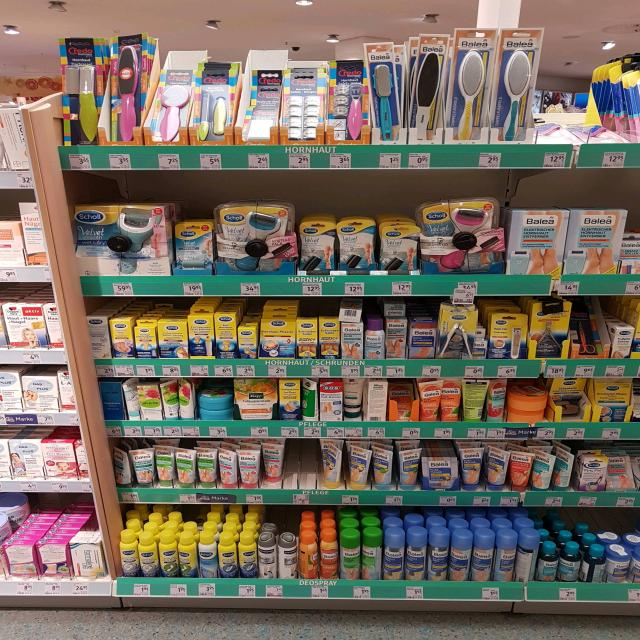empty: (283, 436, 318, 486)
